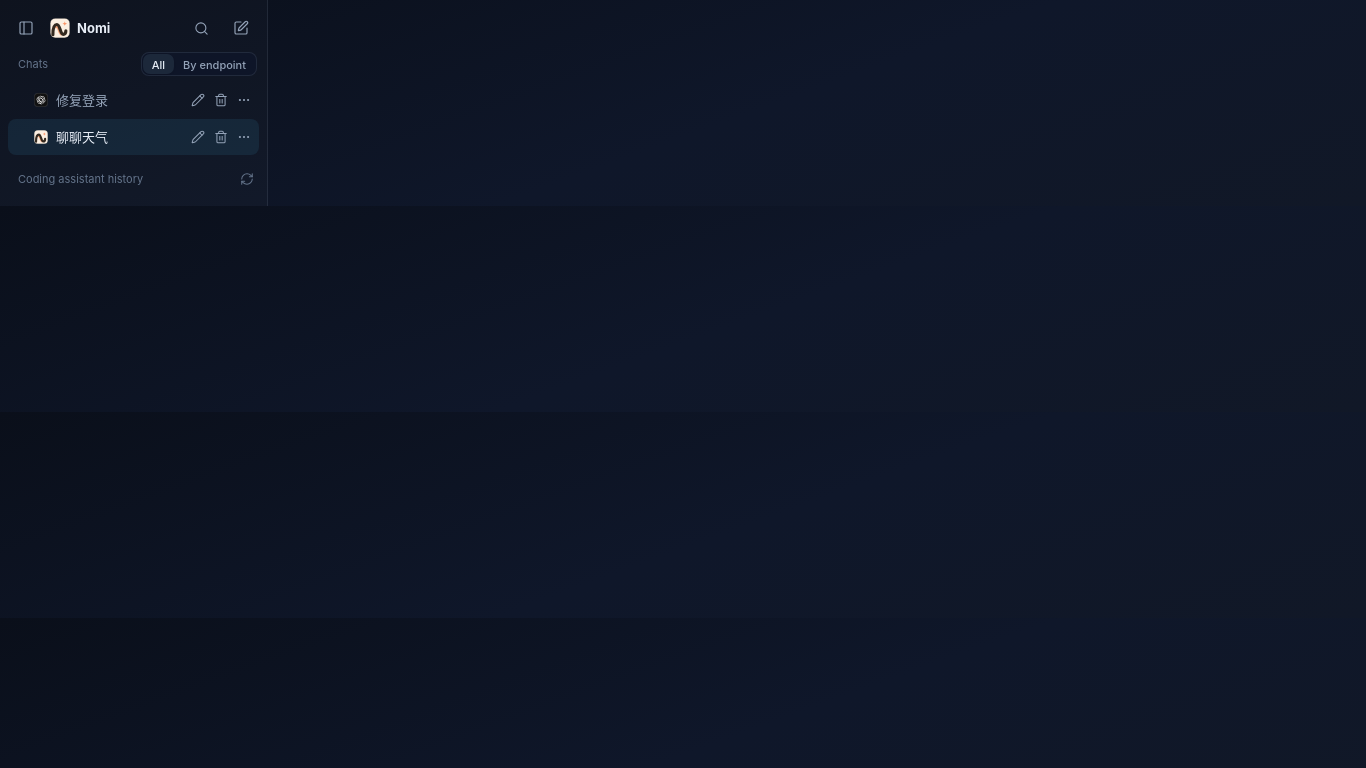
Test case: one conversation context menu › CLI conversation: rename / fork / fork-cross / close, no delete
The width and height of the screenshot is (1366, 768).
Right-click the button with test id "history-item" showing "修复登录": {"x": 134, "y": 100} [8,82,259,118]
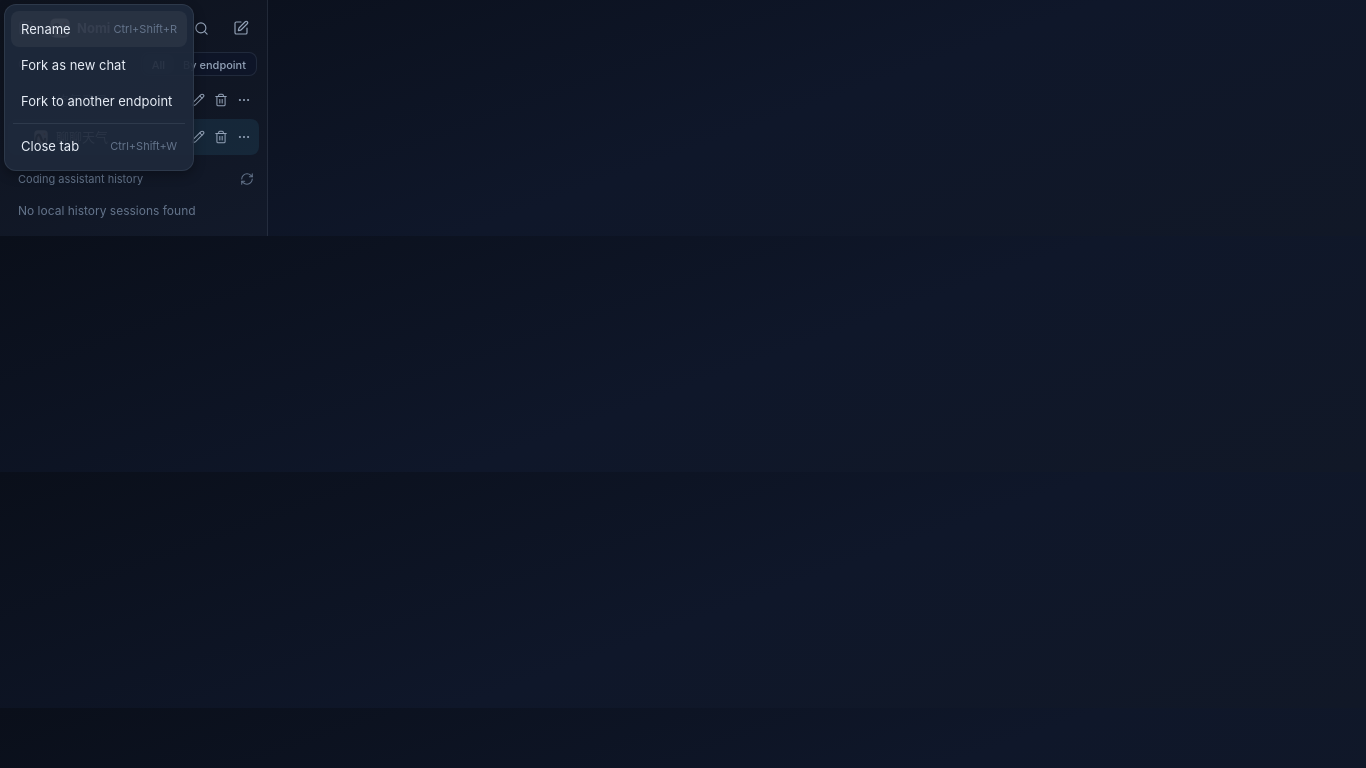
Expected: the number of menu items is 4, [11,11,187,47]; [11,47,187,83]; [11,83,187,119]; [11,128,187,164]
Expected: the menu item with test id "conversation-rename" is shown, [11,11,187,47]
Expected: the menu item with test id "fork-same" is shown, [11,47,187,83]
